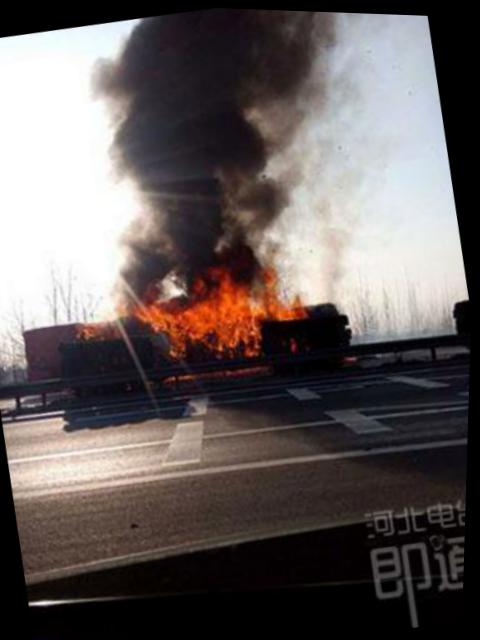fire: (158, 279, 264, 361), (250, 271, 305, 321), (133, 292, 167, 330), (207, 264, 233, 288)
